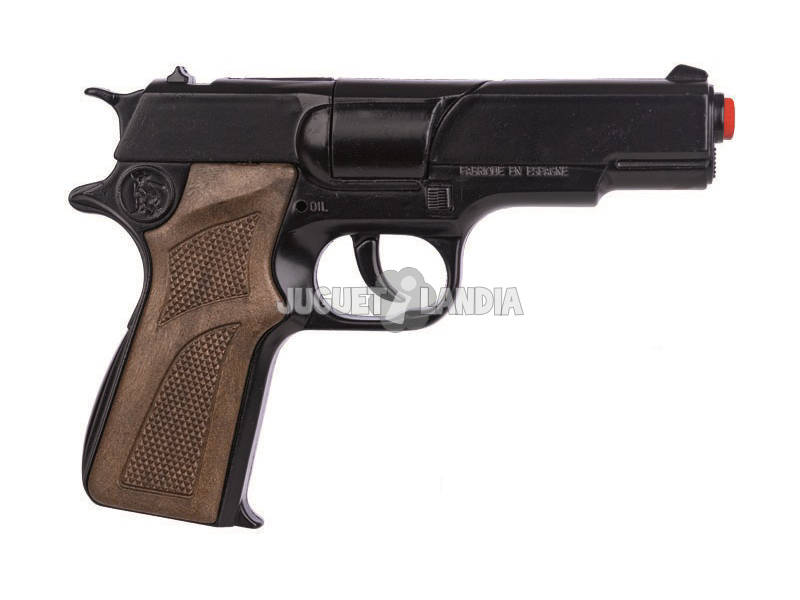Arma Falsa: (67, 60, 741, 536)
